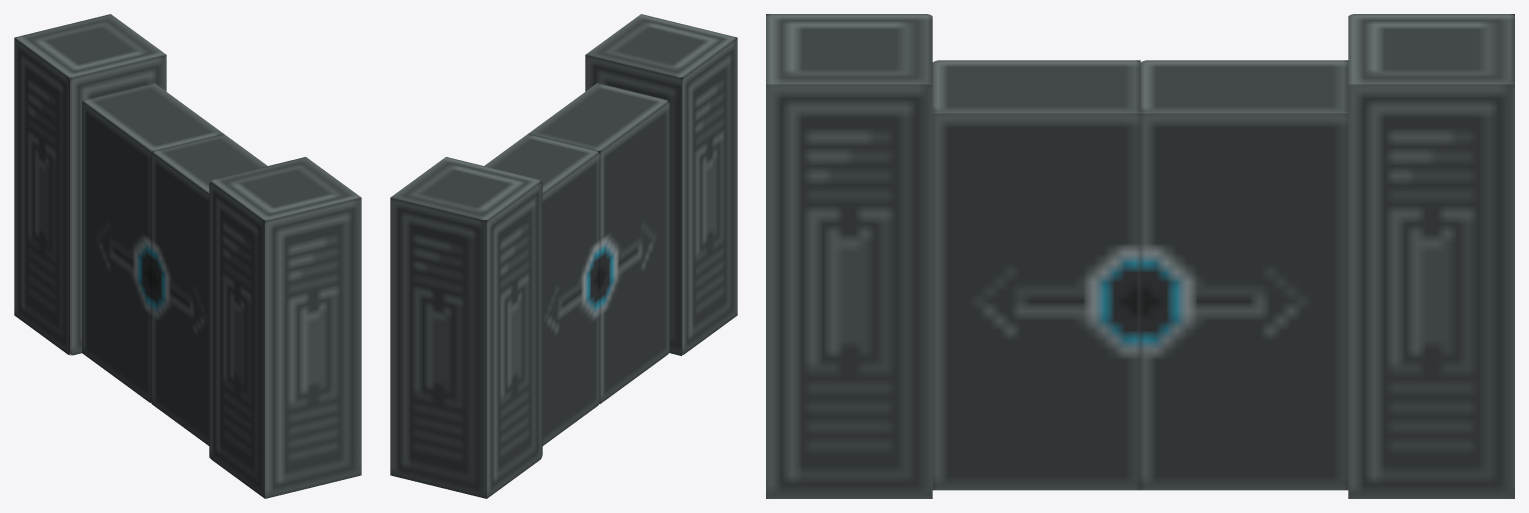
The model's file is door.fbx.
3 views of the same model, side by side, from view 1: azimuth 30°, elevation 25°; view 2: azimuth 150°, elevation 25°; view 3: azimuth 270°, elevation 25° (orthographic). The views are drawn at different scales.
Visible parts, largest first — view 1: Plane.003; view 2: Plane.003; view 3: Plane.003.
Part boxes in pixels (x1=…): Plane.003: x1=14, y1=14, x2=361, y2=498; Plane.003: x1=390, y1=14, x2=737, y2=498; Plane.003: x1=766, y1=14, x2=1514, y2=498.
Size of the model in its own units: 4 by 11 by 18.
1 material, 1 textured.
